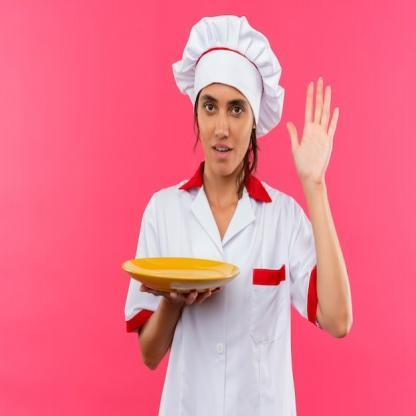stop: (283, 74, 341, 184)
